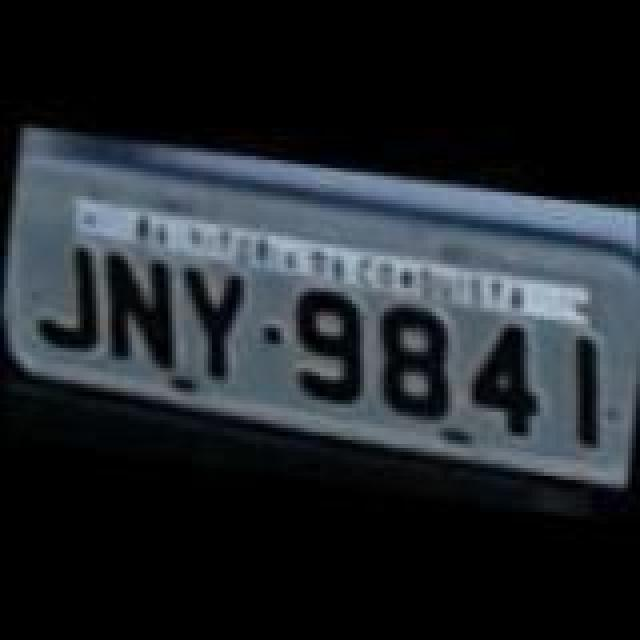1: (552, 322, 624, 450)
4: (456, 314, 556, 442)
8: (370, 296, 466, 428)
9: (282, 284, 378, 412)
J: (26, 236, 122, 364)
N: (90, 248, 186, 380)
Y: (168, 256, 252, 392)
